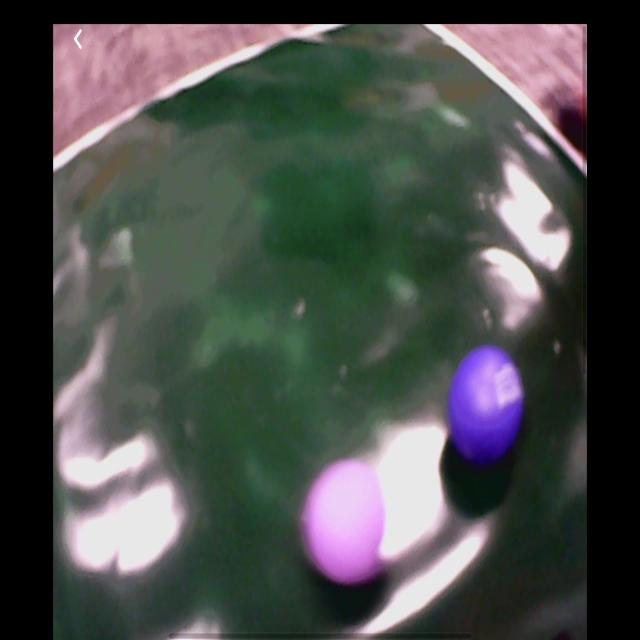ball: (302, 458, 388, 584), (447, 346, 523, 459)
